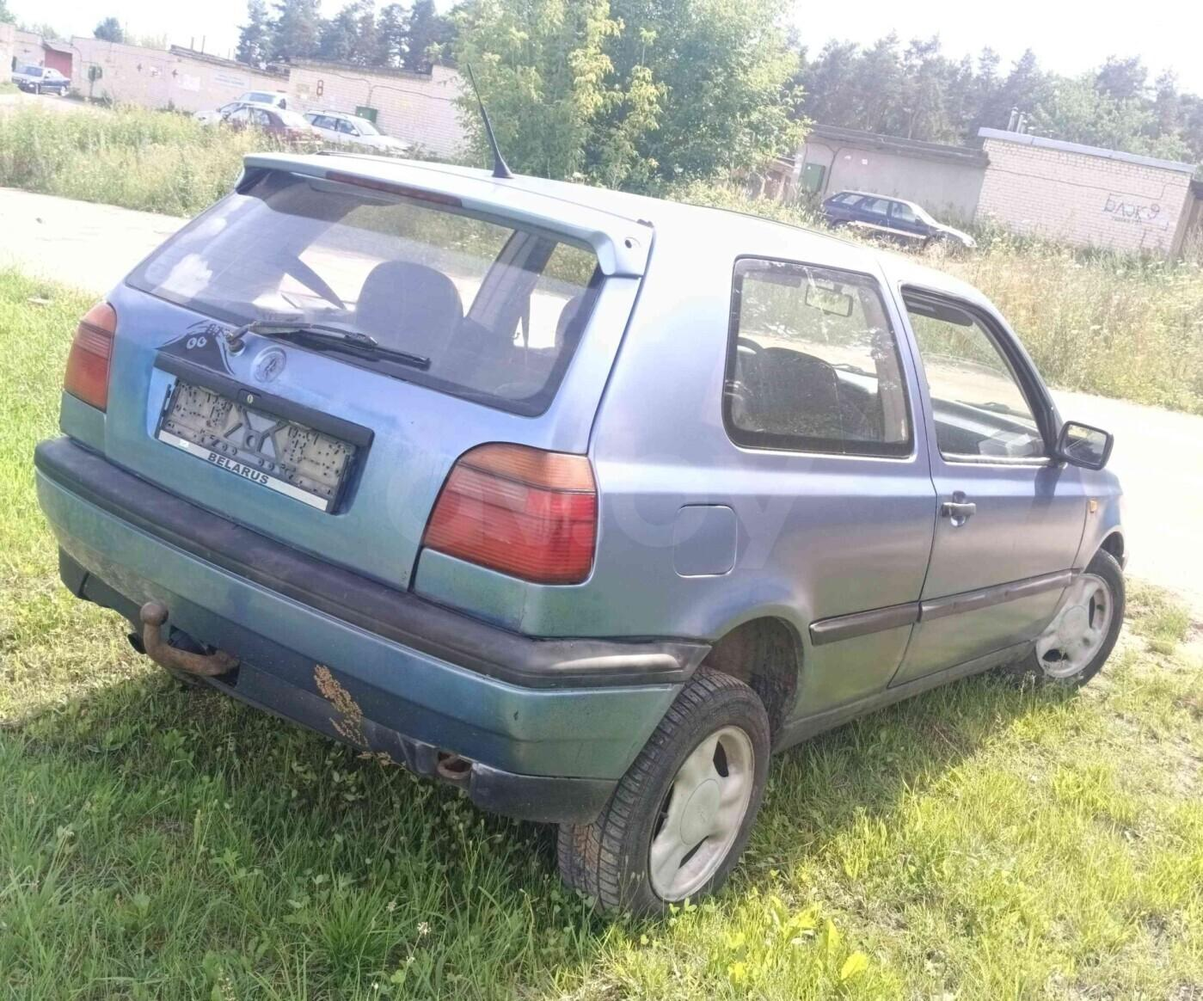Golf_1991-2000: (22, 140, 1137, 934)
